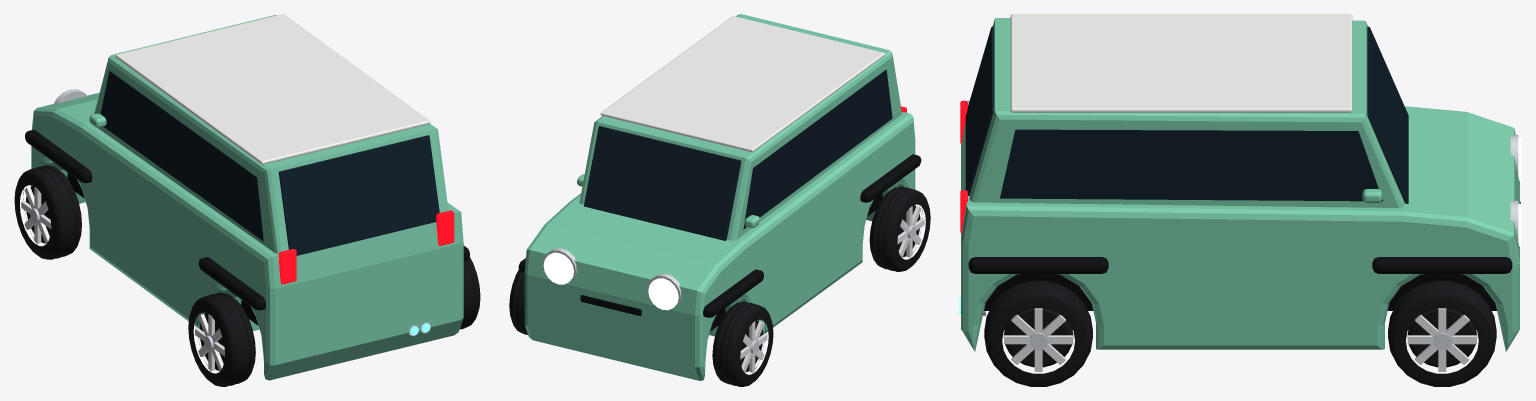
File: kei-bolt.glb
3 renders of one model, left to right at view 1: azimuth 30°, elevation 25°; view 2: azimuth 150°, elevation 25°; view 3: azimuth 270°, elevation 25°, orthographic. The views are drawn at different scales.
Parts seen in each view (by area): view 1: Body, Roof, RearWindow, SideGlass, Cabin, Tire (×3), FenderFlare (×2), TailLight (×2); view 2: Body, Roof, Windscreen, SideGlass, Cabin, Tire (×3), FenderFlare (×2), Headlight (×2), Grille; view 3: Body, Roof, SideGlass, Cabin, Tire (×2), FenderFlare (×2), Windscreen, RimDish (×2), RearWindow, WheelWell (×2), Spoke (×2).
Part boxes in pixels (left/top/right/bottom): Body: left=31, top=92, right=463, bottom=380; Roof: left=115, top=14, right=430, bottom=164; RearWindow: left=278, top=135, right=439, bottom=255; SideGlass: left=100, top=71, right=263, bottom=241; Cabin: left=94, top=15, right=448, bottom=253; Tire (×3): left=14, top=165, right=480, bottom=386; FenderFlare (×2): left=25, top=130, right=265, bottom=310; TailLight (×2): left=278, top=210, right=454, bottom=284; Body: left=524, top=112, right=915, bottom=380; Roof: left=600, top=16, right=885, bottom=152; Windscreen: left=584, top=126, right=741, bottom=240; SideGlass: left=743, top=69, right=892, bottom=229; Cabin: left=579, top=14, right=901, bottom=240; Tire (×3): left=509, top=186, right=930, bottom=386; FenderFlare (×2): left=703, top=154, right=921, bottom=317; Headlight (×2): left=543, top=252, right=678, bottom=310; Grille: left=580, top=295, right=641, bottom=316; Body: left=961, top=100, right=1519, bottom=351; Roof: left=1010, top=14, right=1352, bottom=112; SideGlass: left=1000, top=129, right=1382, bottom=201; Cabin: left=969, top=18, right=1404, bottom=207; Tire (×2): left=984, top=280, right=1496, bottom=386; FenderFlare (×2): left=968, top=257, right=1512, bottom=273; Windscreen: left=1367, top=26, right=1408, bottom=203; RimDish (×2): left=1003, top=308, right=1477, bottom=367; RearWindow: left=965, top=26, right=993, bottom=195; WheelWell (×2): left=984, top=274, right=1496, bottom=310; Spoke (×2): left=1004, top=335, right=1476, bottom=344.
Bounding box in the file's own units: 2.19 × 1.83 × 3.62.
